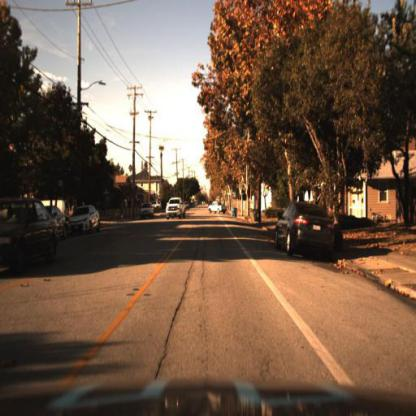car: (1, 197, 61, 275), (275, 198, 336, 256), (70, 205, 104, 238), (68, 206, 102, 237), (45, 203, 70, 243), (166, 197, 186, 220), (209, 201, 227, 216)
